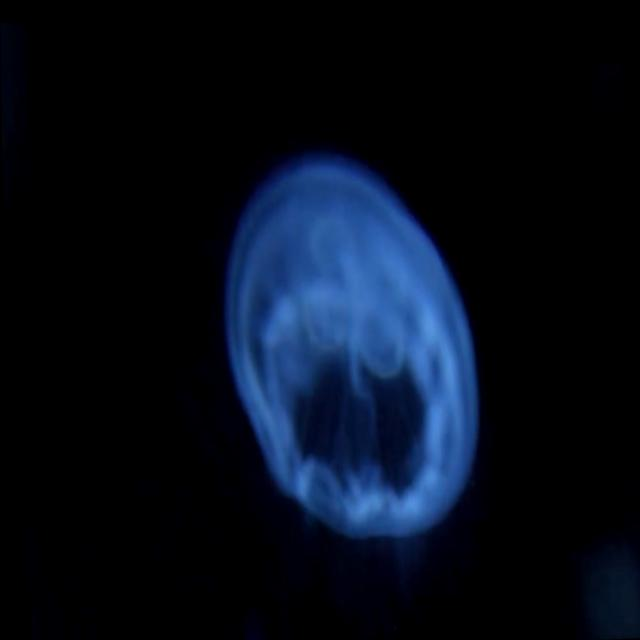Moon-jellyfish: (218, 146, 478, 534)
